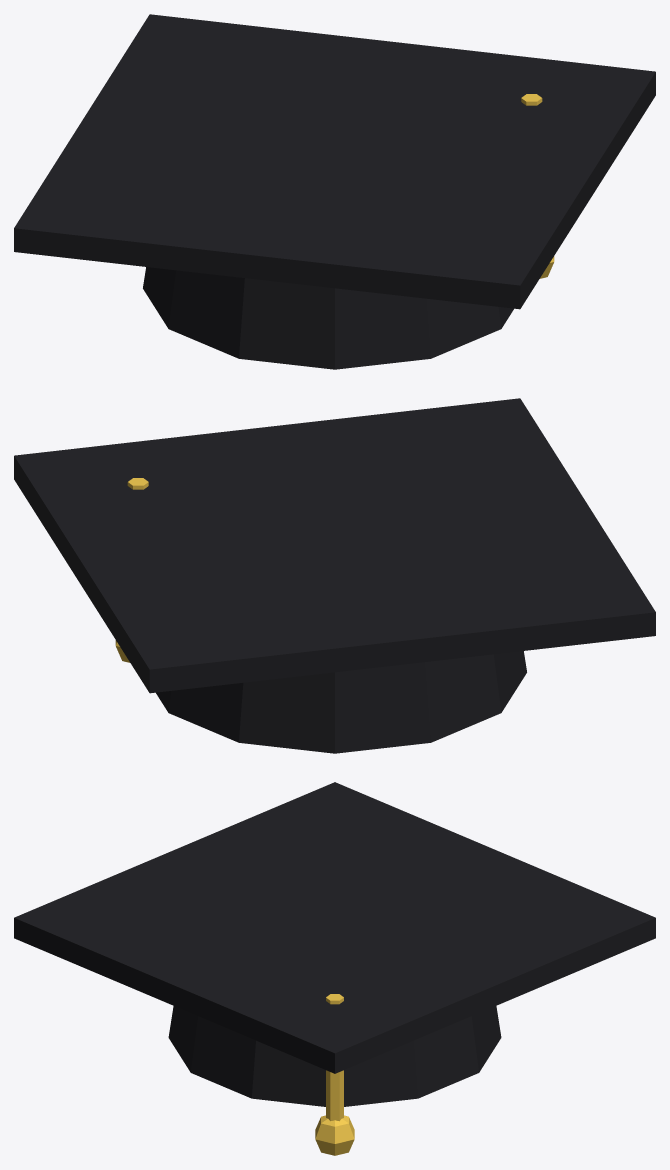
The model's file is mortarboard.glb.
3 renders of one model, top to bottom at view 1: azimuth 30°, elevation 25°; view 2: azimuth 150°, elevation 25°; view 3: azimuth 270°, elevation 25°, orthographic. The views are drawn at different scales.
Parts seen in each view (by area): view 1: board_mortar_black, cap_mortar_black; view 2: board_mortar_black, cap_mortar_black; view 3: board_mortar_black, cap_mortar_black, tassel_mortar_gold.
Boxes of the visible parts, box(x1,y1,x2,y2) form: board_mortar_black: box(14, 14, 655, 309); cap_mortar_black: box(143, 267, 513, 369); board_mortar_black: box(14, 398, 655, 693); cap_mortar_black: box(156, 651, 526, 753); board_mortar_black: box(14, 782, 655, 1073); cap_mortar_black: box(168, 1006, 501, 1106); tassel_mortar_gold: box(315, 994, 354, 1155).
Size of the model in its own units: 0.4243 by 0.115 by 0.4243.
